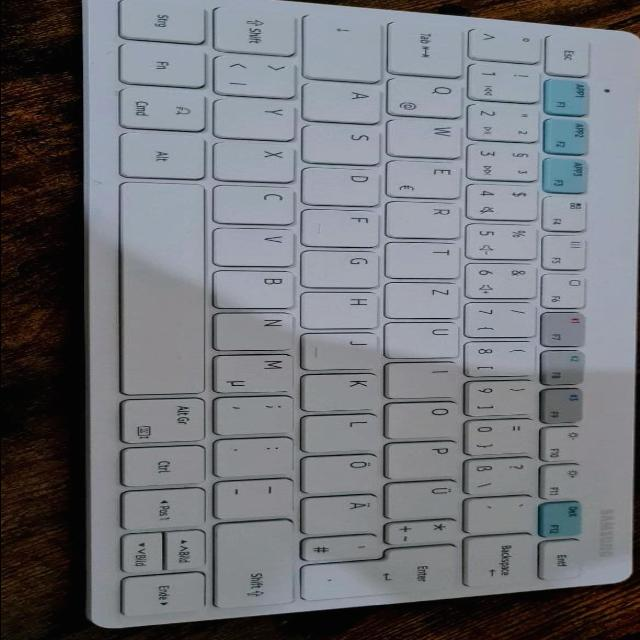0: (468, 415, 544, 453)
1: (472, 61, 548, 101)
2: (470, 101, 546, 141)
3: (471, 141, 545, 181)
4: (470, 181, 546, 219)
5: (469, 220, 545, 258)
6: (469, 260, 545, 298)
7: (468, 300, 542, 336)
8: (468, 339, 544, 375)
9: (470, 378, 544, 414)
a: (306, 80, 390, 122)
accent: (470, 494, 544, 532)
ae: (305, 492, 389, 533)
alt-left: (122, 131, 213, 179)
altgr-right: (123, 394, 214, 442)
b: (217, 267, 301, 308)
c: (217, 182, 303, 224)
caret: (471, 26, 547, 61)
comma: (218, 393, 302, 433)
d: (305, 164, 387, 204)
del: (468, 532, 544, 586)
e: (389, 158, 469, 198)
enter: (304, 543, 473, 600)
f: (305, 207, 387, 246)
g: (305, 248, 386, 286)
h: (305, 289, 385, 328)
hash: (305, 533, 389, 560)
i: (389, 359, 467, 397)
j: (305, 330, 389, 368)
k: (305, 370, 389, 410)
keyboard: (68, 0, 640, 631)
l: (305, 412, 389, 450)
less: (216, 53, 305, 97)
m: (217, 351, 301, 391)
minus: (218, 475, 302, 517)
n: (217, 309, 301, 349)
o: (388, 399, 467, 438)
oe: (305, 451, 387, 492)
p: (388, 439, 467, 477)
plus: (389, 516, 467, 543)
point: (218, 435, 302, 475)
q: (390, 74, 469, 116)
r: (389, 199, 467, 237)
s: (305, 122, 389, 163)
shift-left: (216, 5, 305, 54)
shift-lock: (306, 14, 392, 80)
shift-right: (217, 518, 306, 607)
space: (122, 180, 214, 394)
ss: (468, 455, 542, 493)
strg-left: (121, 0, 214, 42)
strg-right: (124, 443, 213, 485)
t: (388, 240, 466, 278)
tab: (392, 20, 473, 75)
u: (387, 319, 466, 357)
ue: (388, 478, 468, 518)
v: (216, 226, 302, 266)
w: (389, 117, 469, 157)
x: (216, 139, 302, 181)
y: (216, 96, 304, 139)
z: (388, 280, 466, 317)
